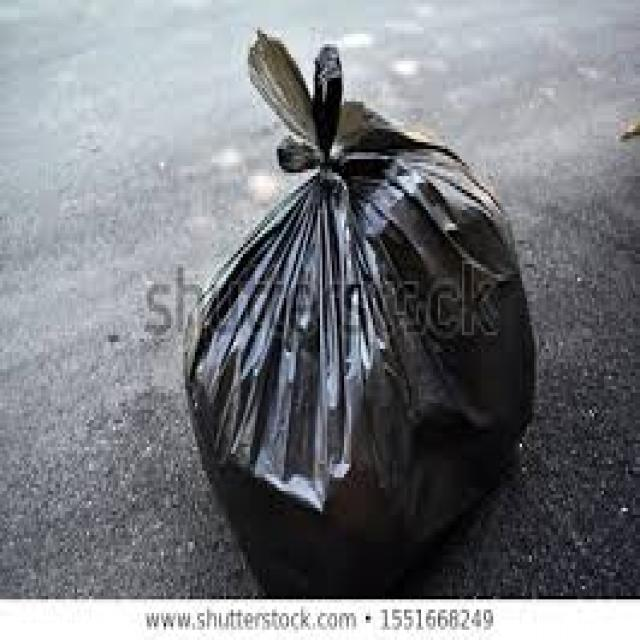plastic_bag: (204, 75, 526, 553)
